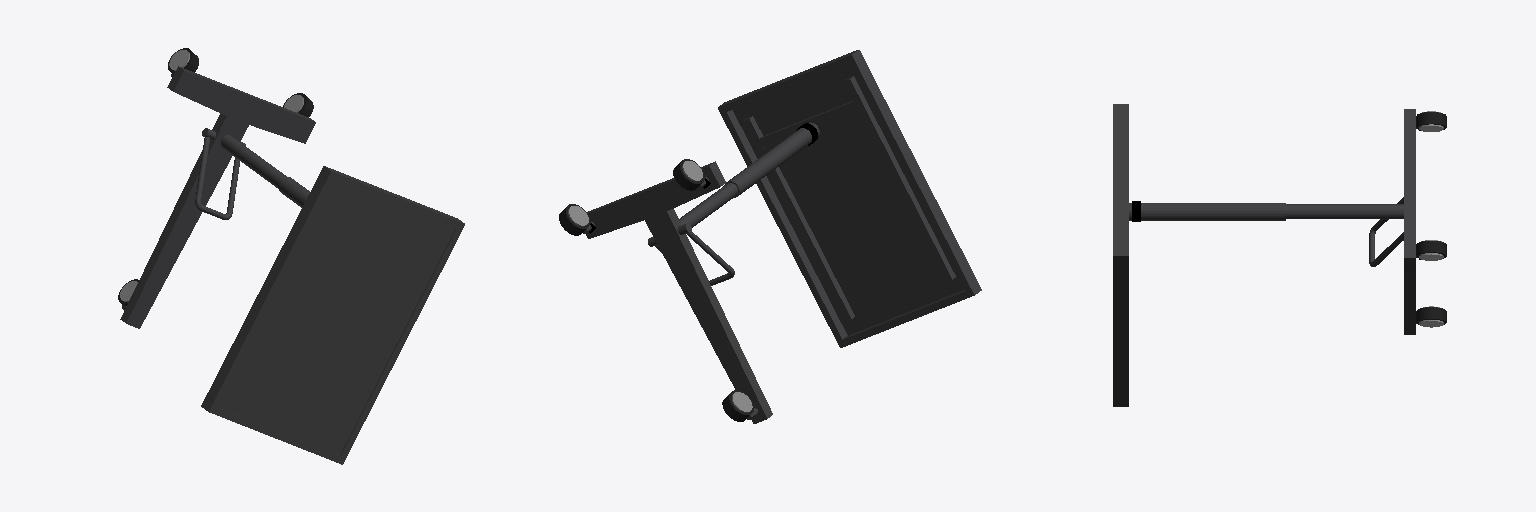
The model's file is Wand-PC.obj.
3 renders of one model, left to right at view 1: azimuth 30°, elevation 25°; view 2: azimuth 150°, elevation 25°; view 3: azimuth 270°, elevation 25°, orthographic.
Parts seen in each view (by area): view 1: 0_MT_EINRICHTUNG STAHL__ROSTFREI, 0_MT_EINRICHTUNG METAL_-_STAINLESS_STEEL FLAT_PART, 0_MT_EINRICHTUNG METAL_-_STAINLESS_STEEL SMOOTH_PART, 0_MT_EINRICHTUNG FARBE__GRAU FLAT_PART; view 2: 0_MT_EINRICHTUNG STAHL__ROSTFREI, 0_MT_EINRICHTUNG METAL_-_STAINLESS_STEEL FLAT_PART, 0_MT_EINRICHTUNG METAL_-_STAINLESS_STEEL SMOOTH_PART, 0_MT_EINRICHTUNG ASPHALT SMOOTH_PART, 0_MT_EINRICHTUNG FARBE__GRAU FLAT_PART; view 3: 0_MT_EINRICHTUNG METAL_-_STAINLESS_STEEL SMOOTH_PART, 0_MT_EINRICHTUNG STAHL__ROSTFREI, 0_MT_EINRICHTUNG METAL_-_STAINLESS_STEEL FLAT_PART, 0_MT_EINRICHTUNG ASPHALT SMOOTH_PART.
Boxes of the visible parts, box(x1,y1,x2,y2) form: 0_MT_EINRICHTUNG STAHL__ROSTFREI: box(201, 166, 464, 464); 0_MT_EINRICHTUNG METAL_-_STAINLESS_STEEL FLAT_PART: box(127, 66, 315, 328); 0_MT_EINRICHTUNG METAL_-_STAINLESS_STEEL SMOOTH_PART: box(120, 74, 309, 323); 0_MT_EINRICHTUNG FARBE__GRAU FLAT_PART: box(120, 50, 303, 300); 0_MT_EINRICHTUNG STAHL__ROSTFREI: box(718, 50, 981, 347); 0_MT_EINRICHTUNG METAL_-_STAINLESS_STEEL FLAT_PART: box(583, 76, 955, 423); 0_MT_EINRICHTUNG METAL_-_STAINLESS_STEEL SMOOTH_PART: box(587, 122, 819, 419); 0_MT_EINRICHTUNG ASPHALT SMOOTH_PART: box(559, 162, 749, 421); 0_MT_EINRICHTUNG FARBE__GRAU FLAT_PART: box(569, 161, 752, 411); 0_MT_EINRICHTUNG METAL_-_STAINLESS_STEEL SMOOTH_PART: box(1129, 128, 1416, 334); 0_MT_EINRICHTUNG STAHL__ROSTFREI: box(1113, 104, 1128, 406); 0_MT_EINRICHTUNG METAL_-_STAINLESS_STEEL FLAT_PART: box(1404, 109, 1415, 270); 0_MT_EINRICHTUNG ASPHALT SMOOTH_PART: box(1416, 112, 1446, 321).
Bounding box in the file's own units: 99.81 × 108 × 110.